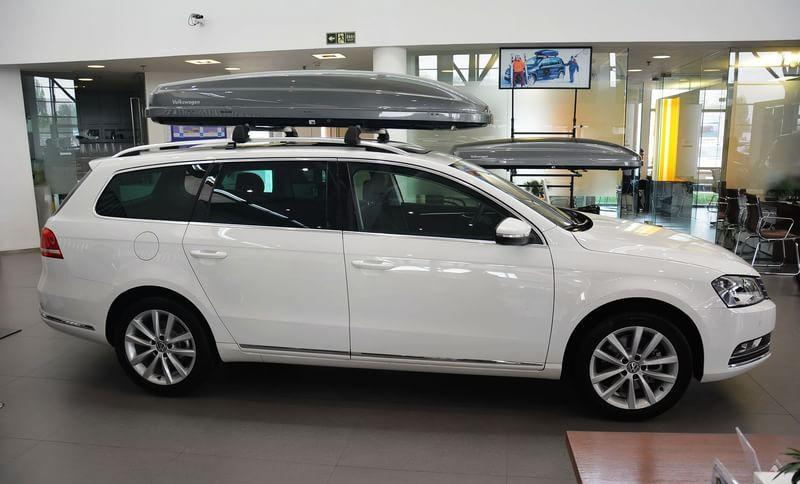Wagon: (35, 70, 779, 421)
